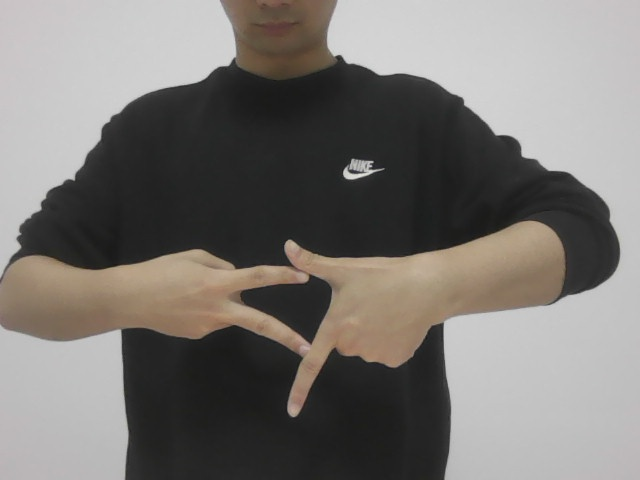introduce: (136, 232, 430, 417)
